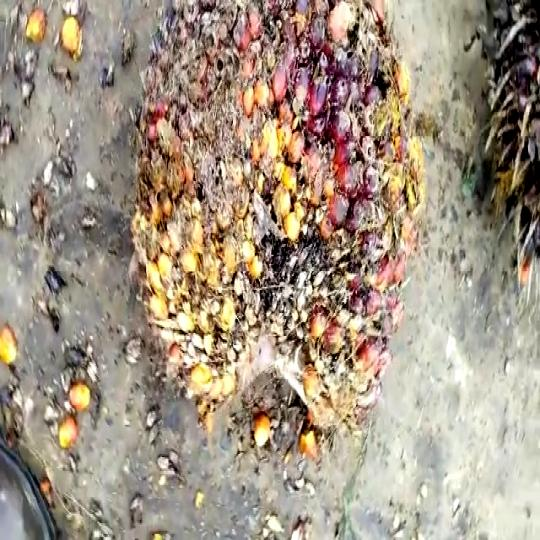masak: (135, 0, 420, 472)
